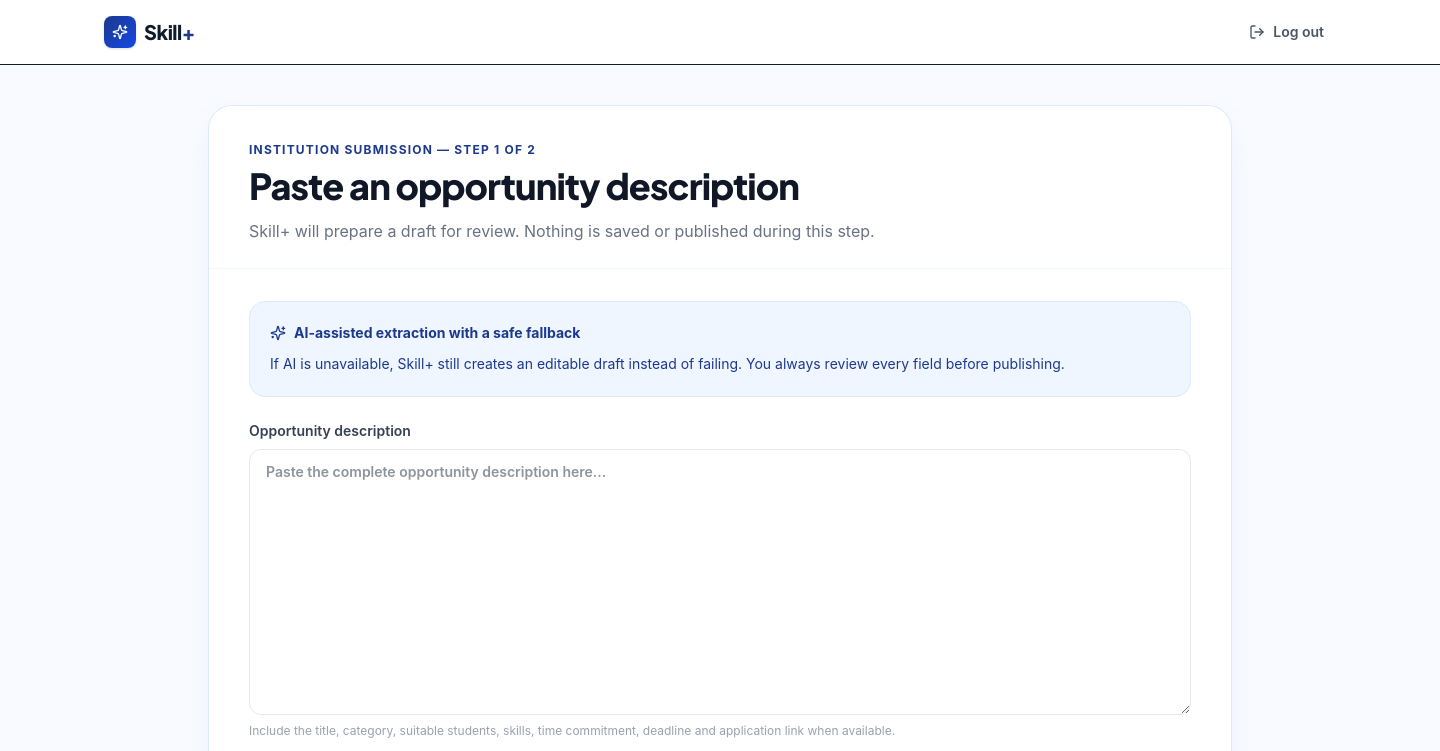
Test: Member 5 Issue #40 role-aware frontend › shows the editable offline fallback honestly when AI extraction is unavailable
Type "Open engineering workshop" into the text box labelled "Opportunity description".
click(720, 582); type("Open engineering workshop")  # box [249,448,1191,714]
(page scrolled)
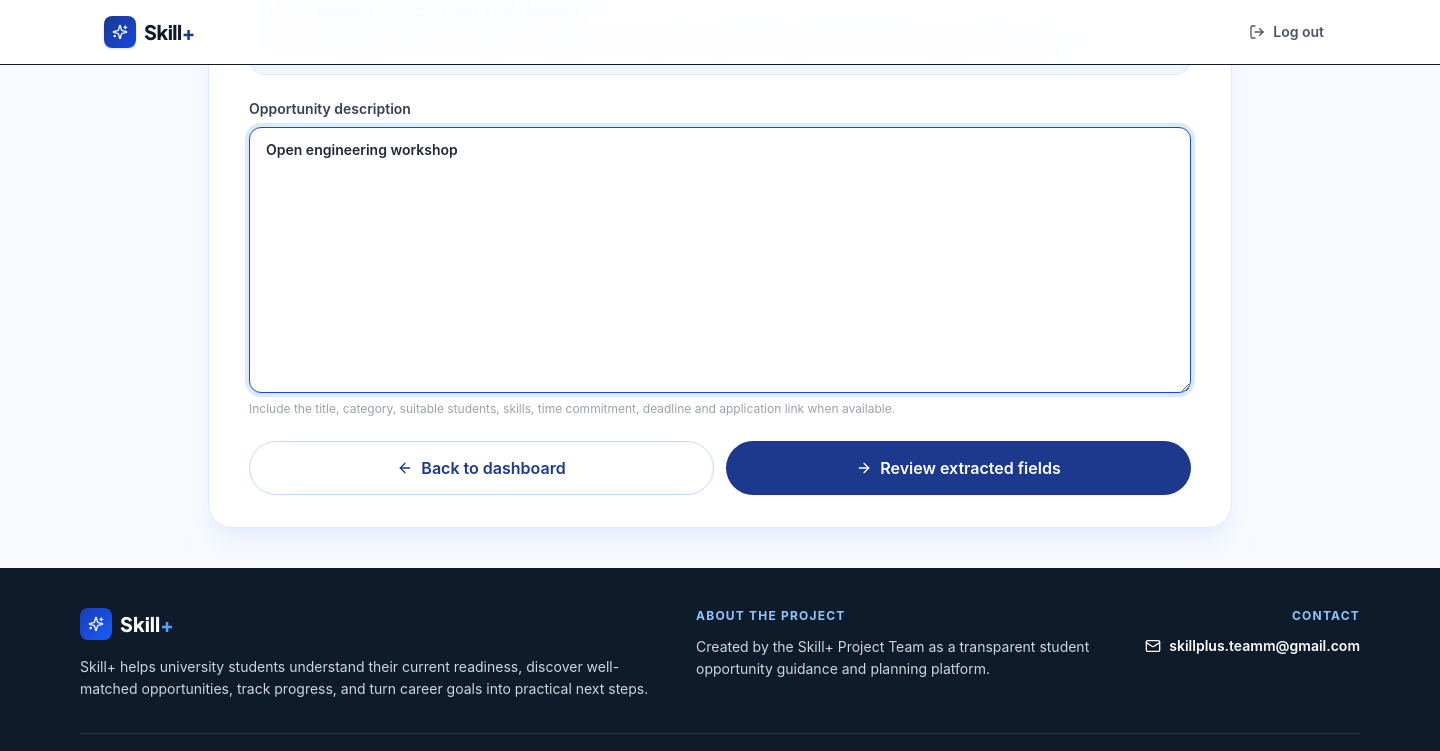
Click the button "Review extracted fields".
click(958, 468)  # box [726,440,1191,494]
(page scrolled)
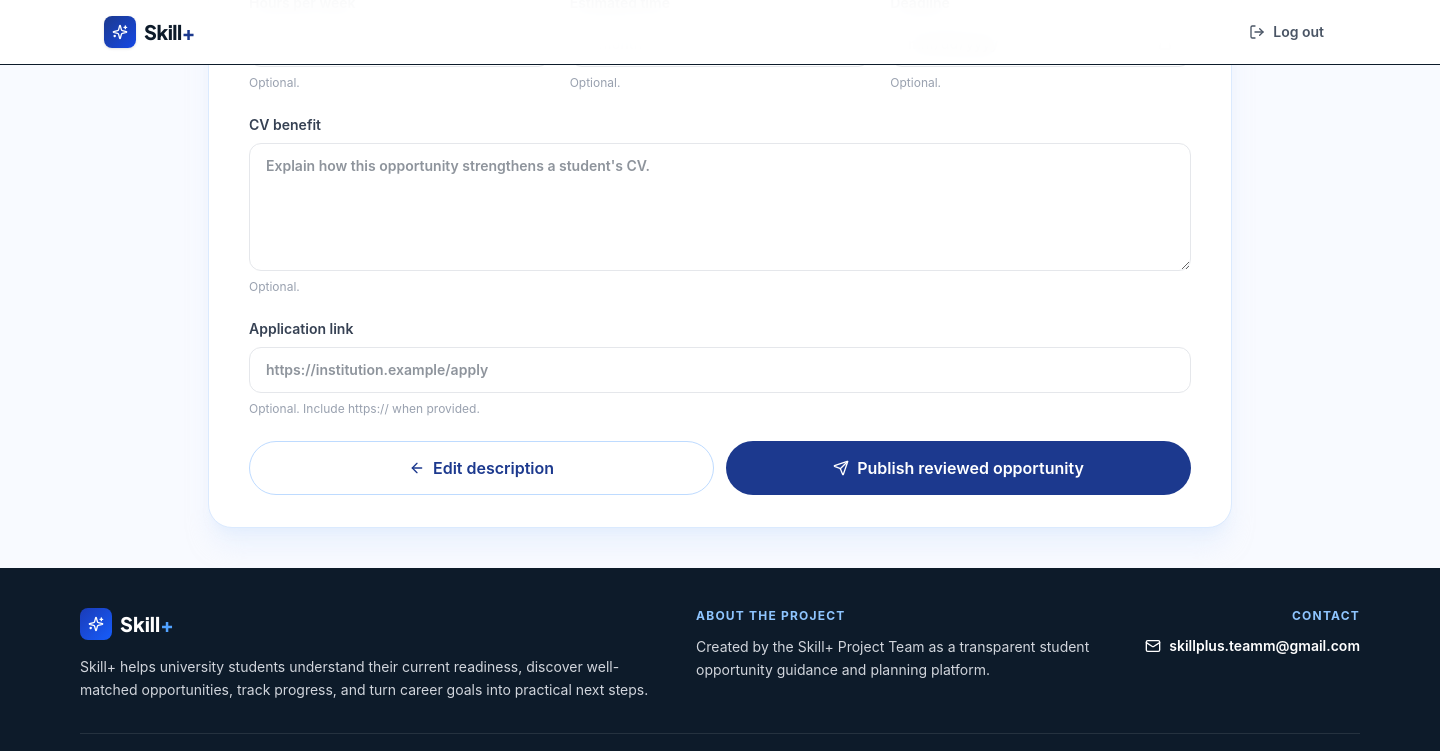
Click the button "Publish reviewed opportunity".
click(958, 468)  # box [726,441,1191,495]
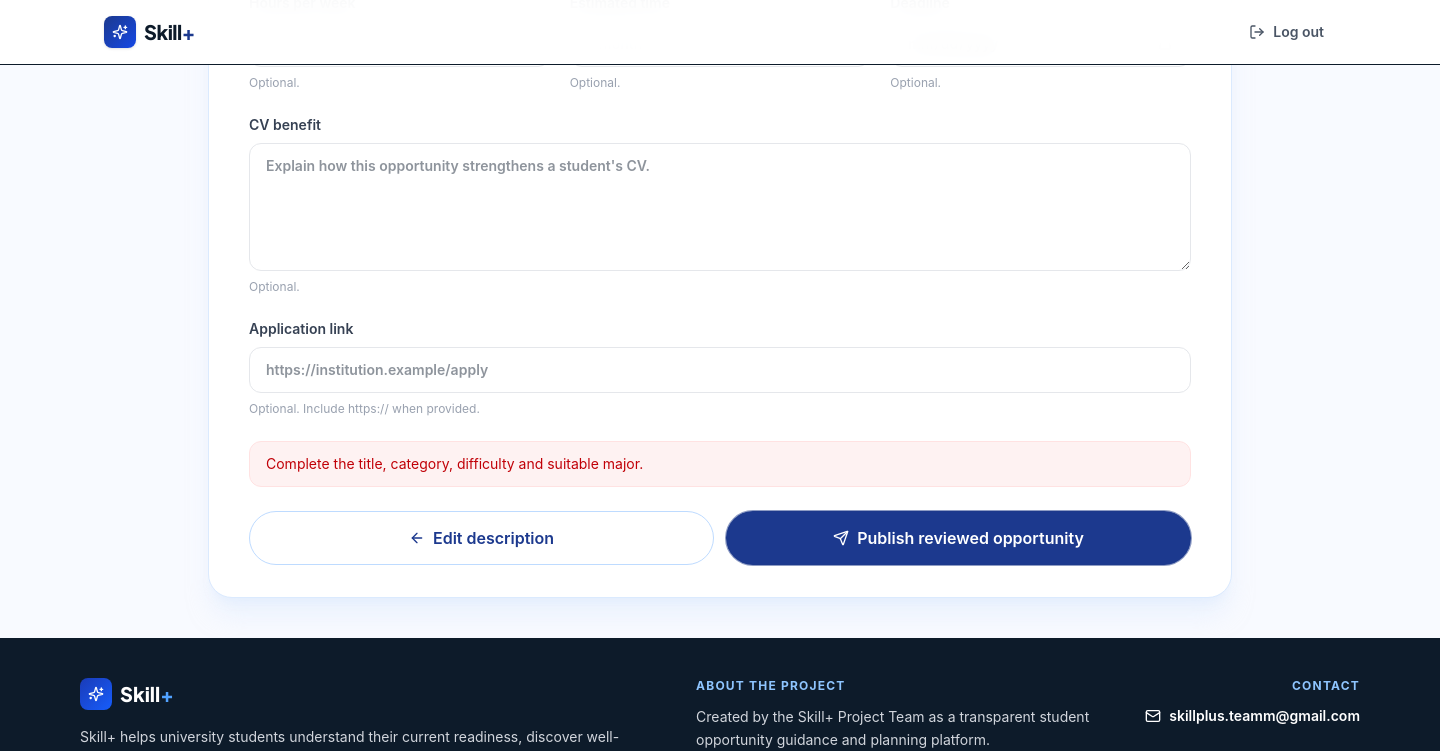
Check: the message reads "Complete the title, category, difficulty and suitable major.", box [266,455,643,472]
